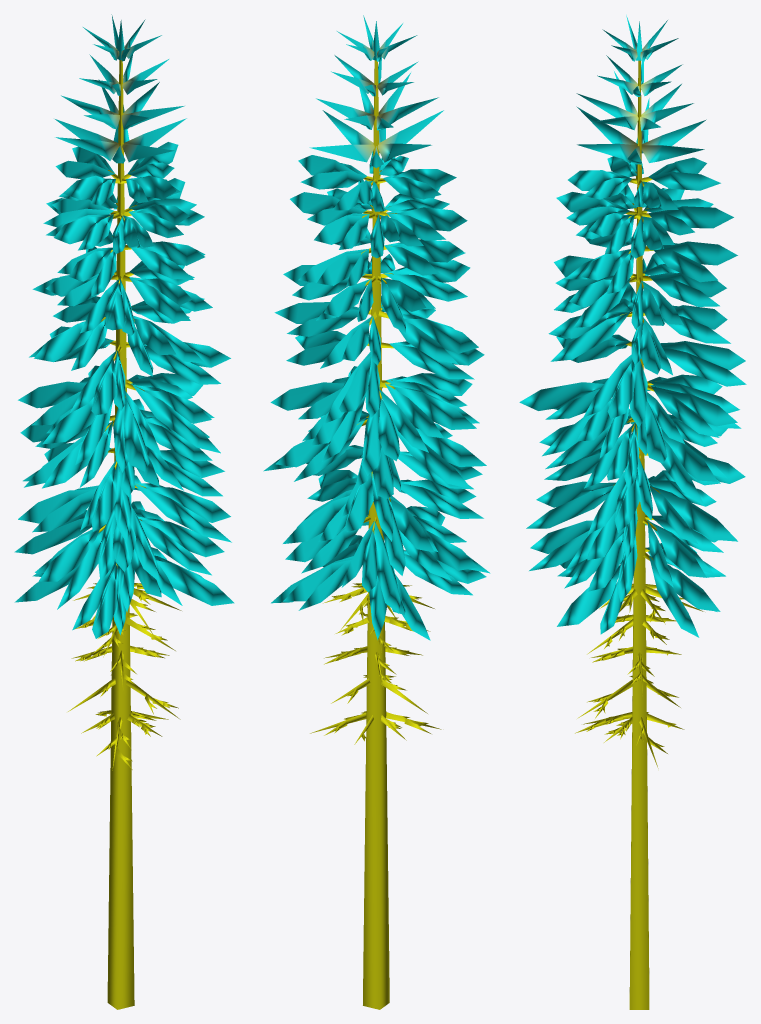
Rendered from fir_lod0.gltf.
3 renders of one model, left to right at view 1: azimuth 30°, elevation 25°; view 2: azimuth 150°, elevation 25°; view 3: azimuth 270°, elevation 25°, orthographic.
Visible parts, largest first — view 1: tree; view 2: tree; view 3: tree.
Boxes of the visible parts, x1,y1,x2,y2 form: tree: (14, 14, 234, 1009); tree: (263, 15, 490, 1009); tree: (519, 15, 746, 1009).
Bounding box in the file's own units: 4.5 × 22 × 4.6.
